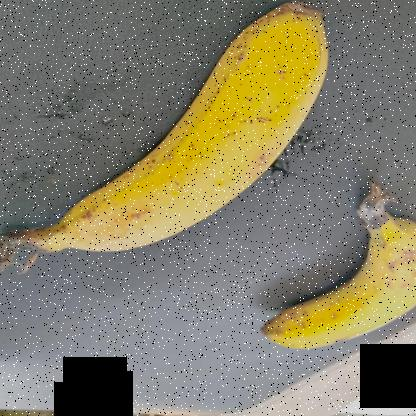ripe: (47, 1, 344, 263), (248, 200, 415, 362)
